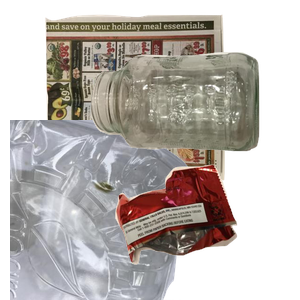glass: (88, 50, 300, 194)
paper: (42, 12, 260, 185)
plastic: (10, 120, 197, 300)
trash: (113, 162, 300, 300)
